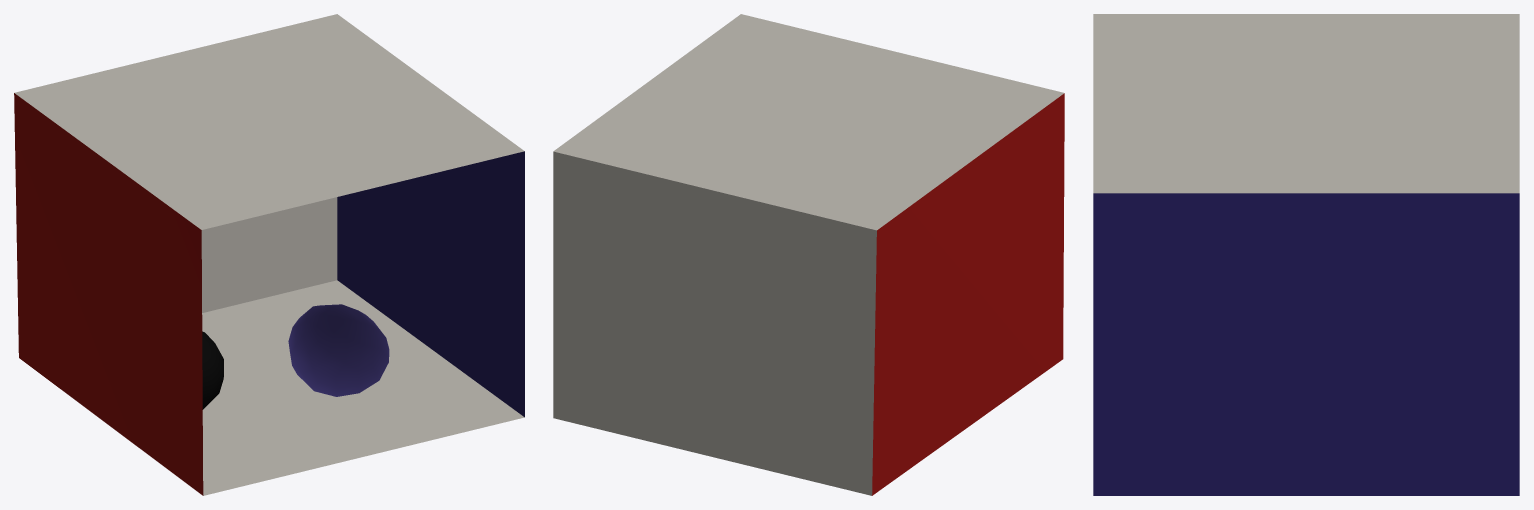
Rendered from CornellBox-Ellipsoid-451.obj.
3 views of the same model, side by side, from view 1: azimuth 30°, elevation 25°; view 2: azimuth 150°, elevation 25°; view 3: azimuth 270°, elevation 25° (orthographic). The views are drawn at different scales.
Parts seen in each view (by area): view 1: ceiling, leftWall, floor, rightWall, backWall, leftSphere, rightSphere; view 2: backWall, ceiling, leftWall; view 3: rightWall, ceiling.
Part boxes in pixels (x1,y1,x2,y2): ceiling: (14, 14, 524, 229); leftWall: (14, 93, 203, 495); floor: (202, 280, 524, 495); rightWall: (337, 151, 524, 417); backWall: (201, 197, 337, 312); leftSphere: (288, 304, 389, 396); rightSphere: (202, 331, 223, 409); backWall: (553, 151, 876, 495); ceiling: (553, 14, 1064, 230); leftWall: (872, 93, 1064, 495); rightWall: (1093, 193, 1519, 495); ceiling: (1093, 14, 1519, 193).
Bounding box in the file's own units: 2.02 × 1.59 × 2.03.
